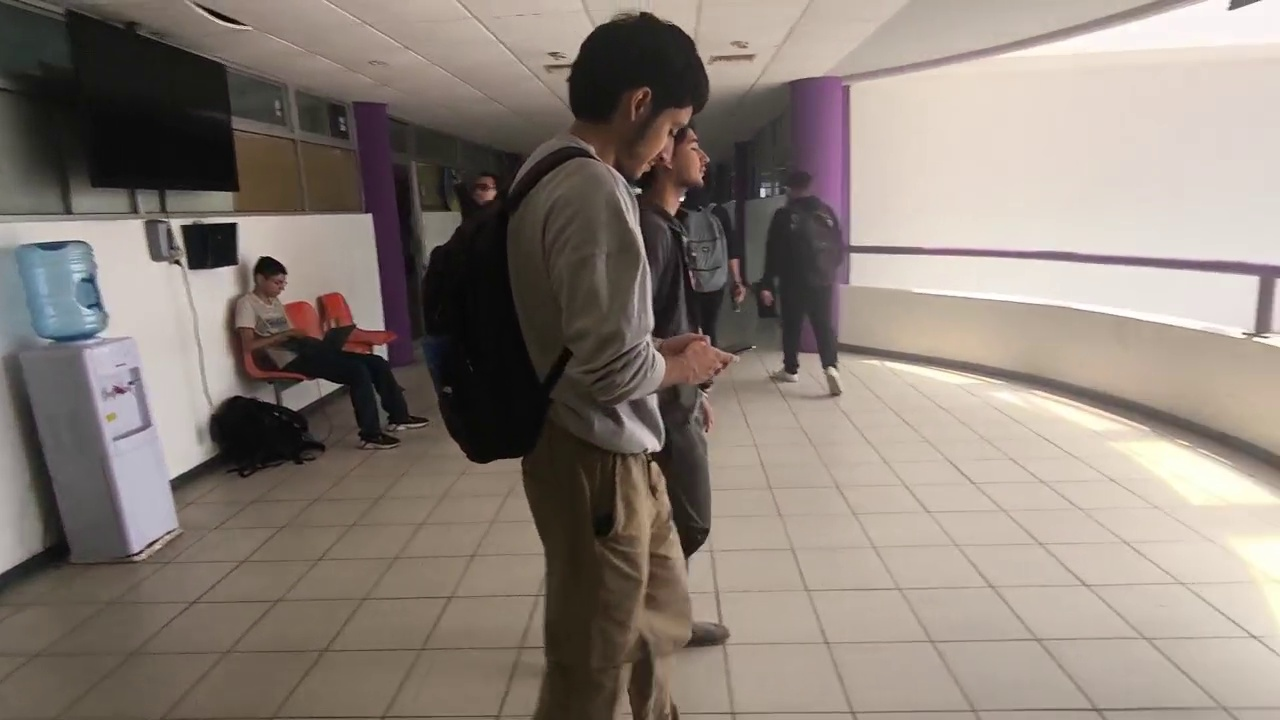mixto2: (715, 333, 758, 360)
